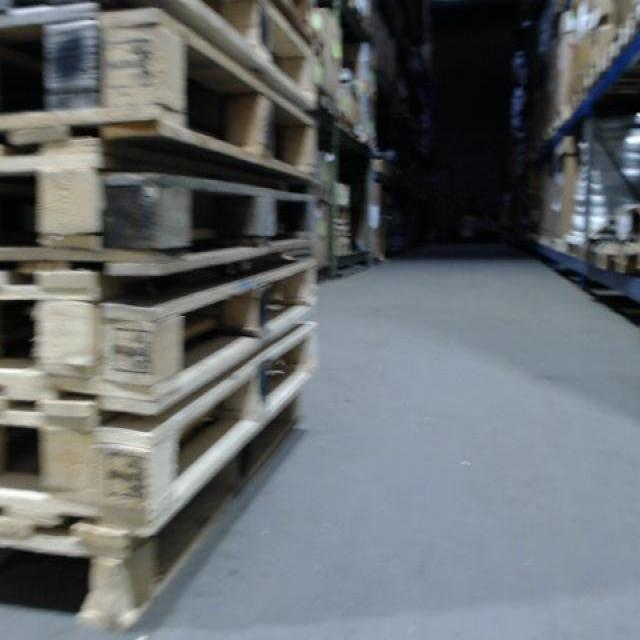pallet: (5, 385, 300, 620), (5, 316, 315, 511), (2, 12, 321, 184), (10, 259, 313, 409), (2, 191, 319, 266), (172, 1, 314, 105)
